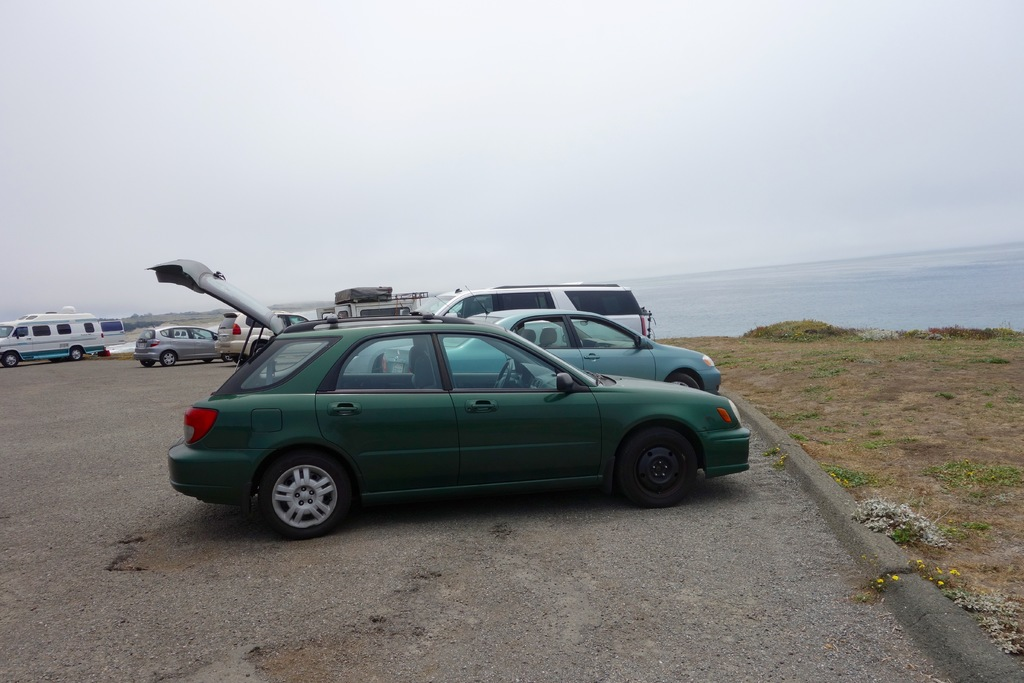Car: (147, 290, 747, 539), (135, 319, 220, 362)
